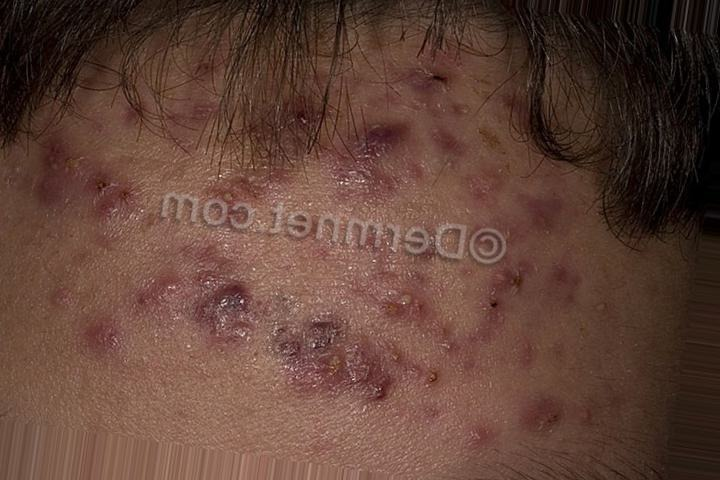Acne: (34, 85, 578, 426)
